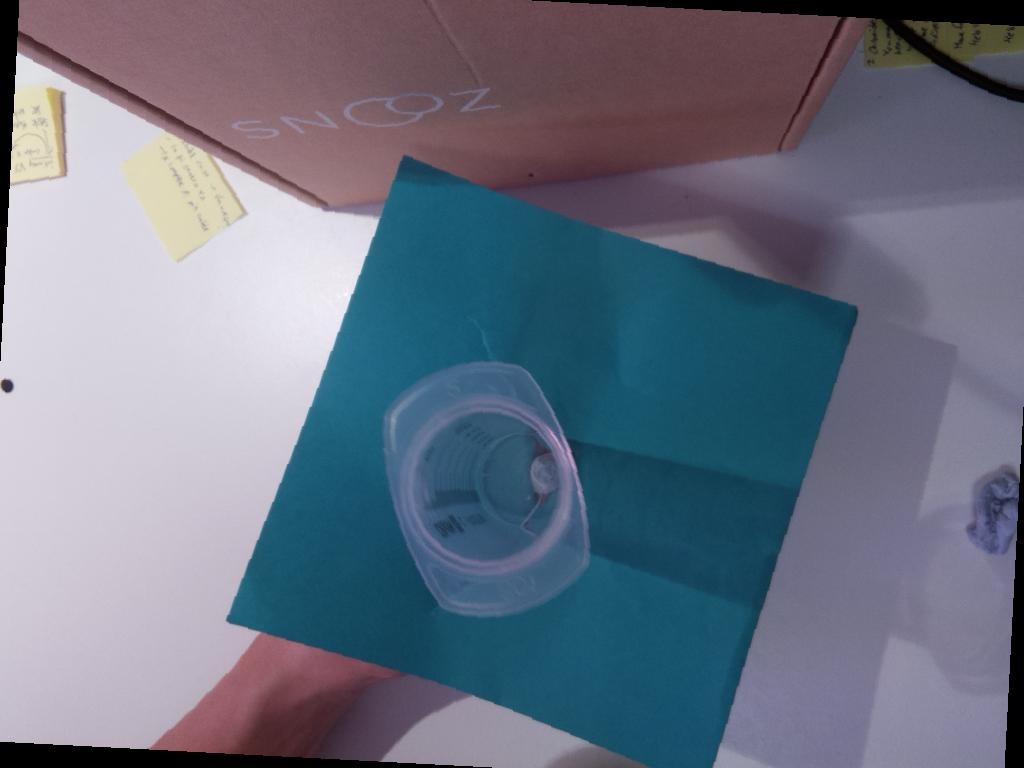clean: (382, 359, 591, 619)
